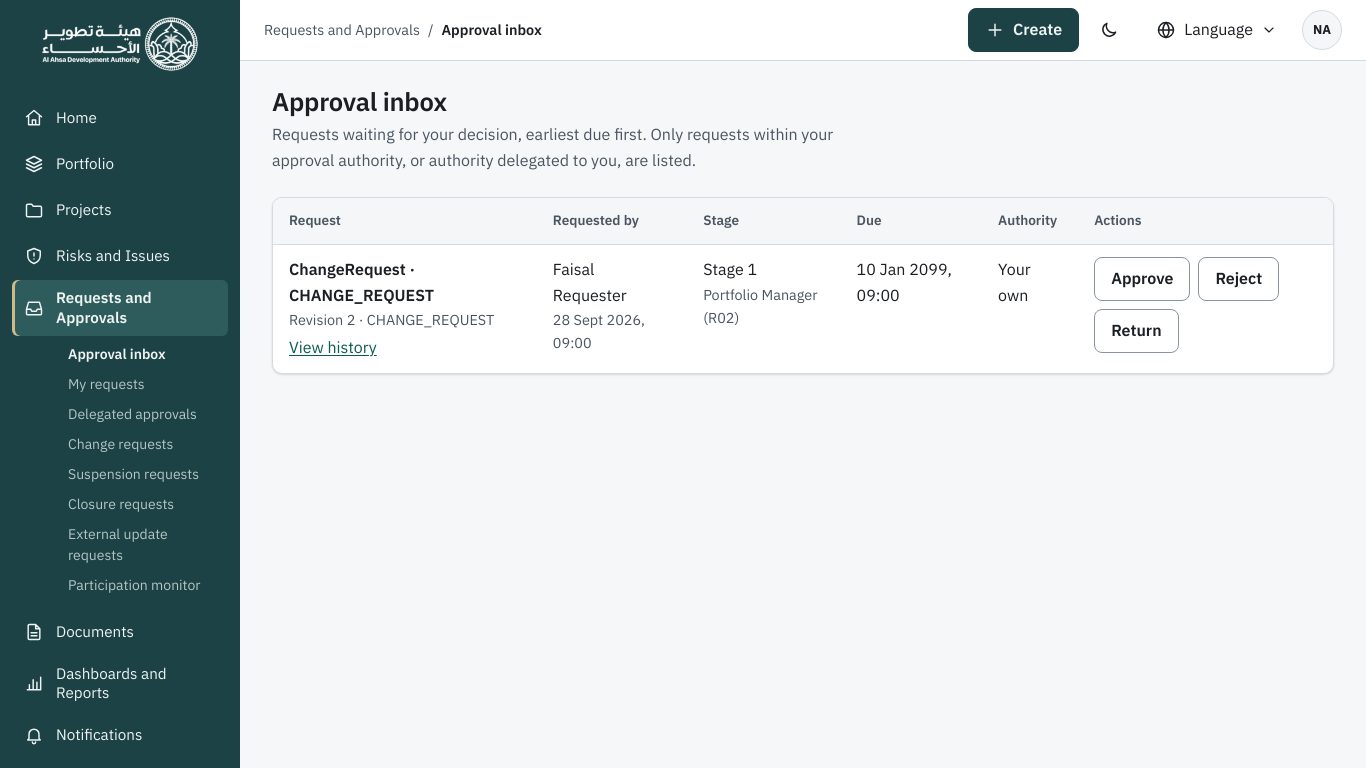
MOD-041 reject and MOD-042 return need a reason › the server's refusal of an empty reason lands on the reason field and nothing is decided
The image size is (1366, 768).
Click the button "Reject" at x=1239, y=279, box [1198,257,1279,301]
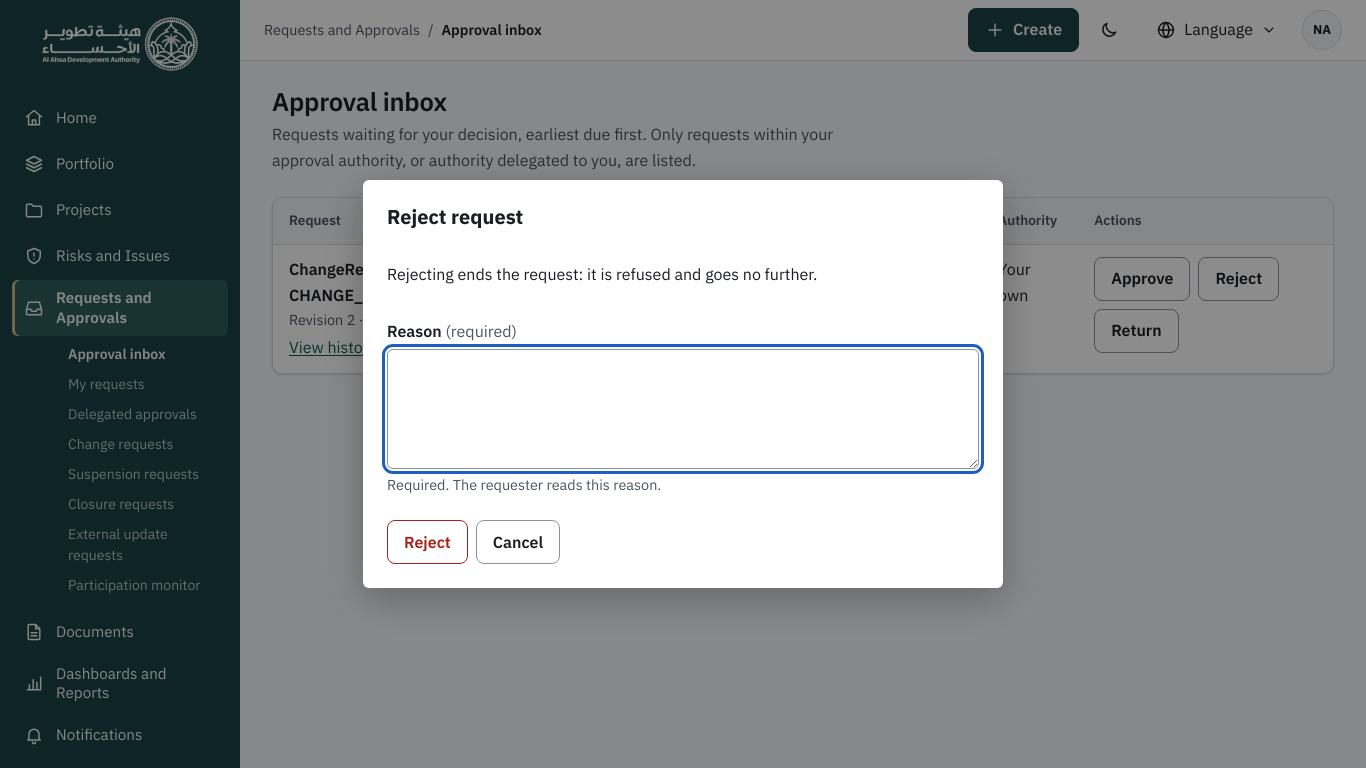
Type "x" into the text box labelled "Reason (required)" at x=683, y=409, box [387,349,979,469]
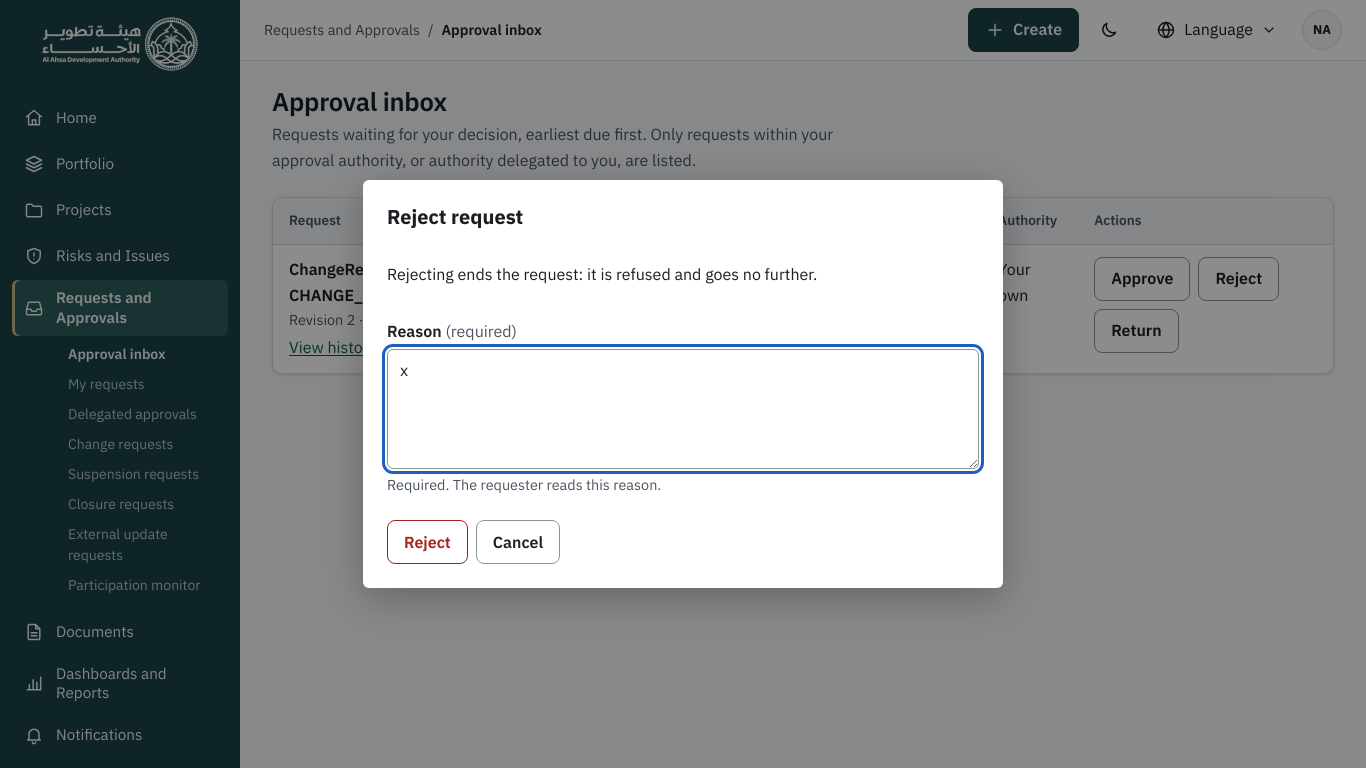
Click the button "Reject" at x=427, y=542, box [387,520,468,564]
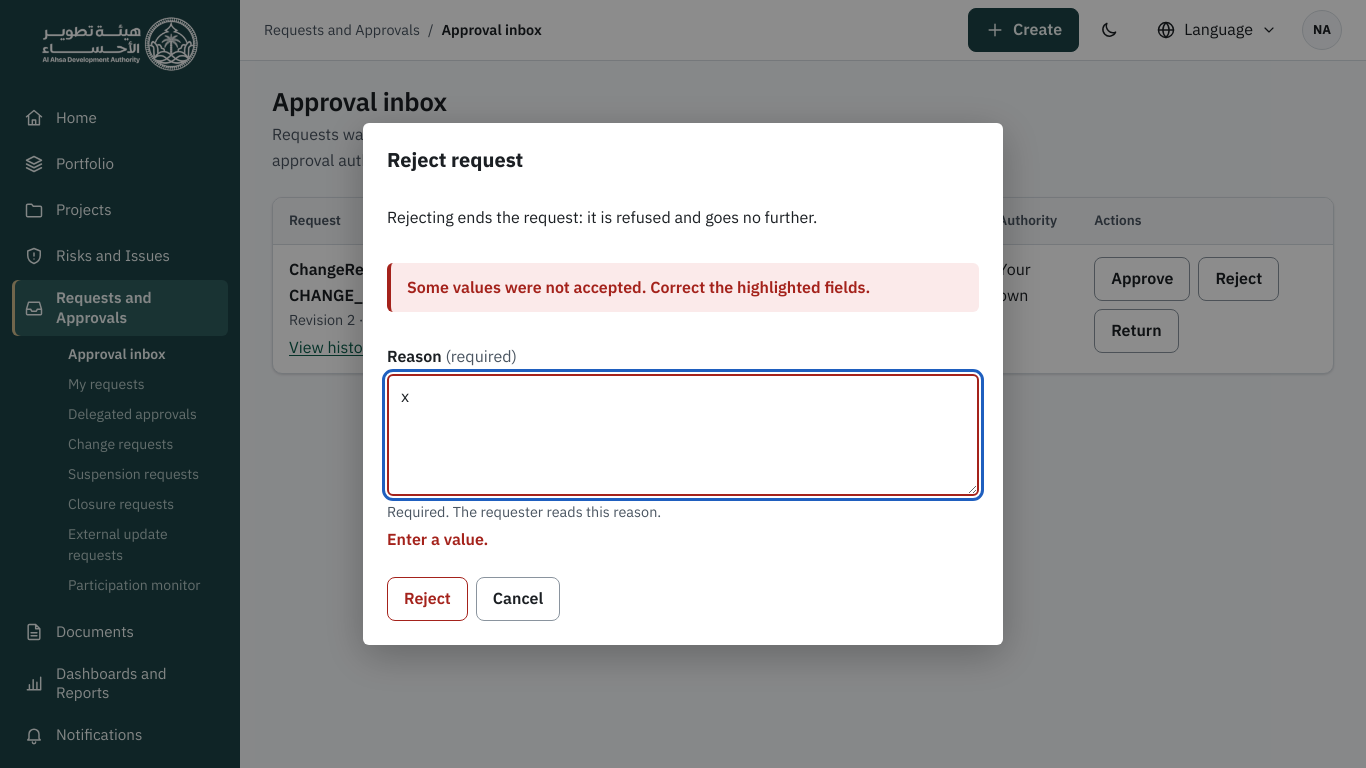
Now the dialog is shown, box [363,123,1003,645]
Now the message reads "Some values were not accepted. Correct the highlighted fields.", box [407,277,870,297]
Now the text "Enter a value." is shown, box [387,529,488,549]
